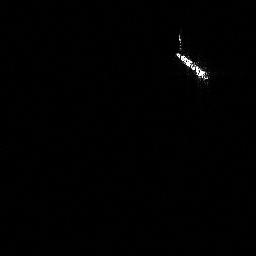ship: (172, 30, 214, 84)
